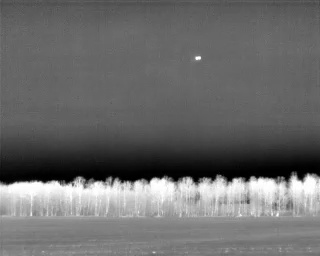DRONE: (191, 52, 205, 65)
